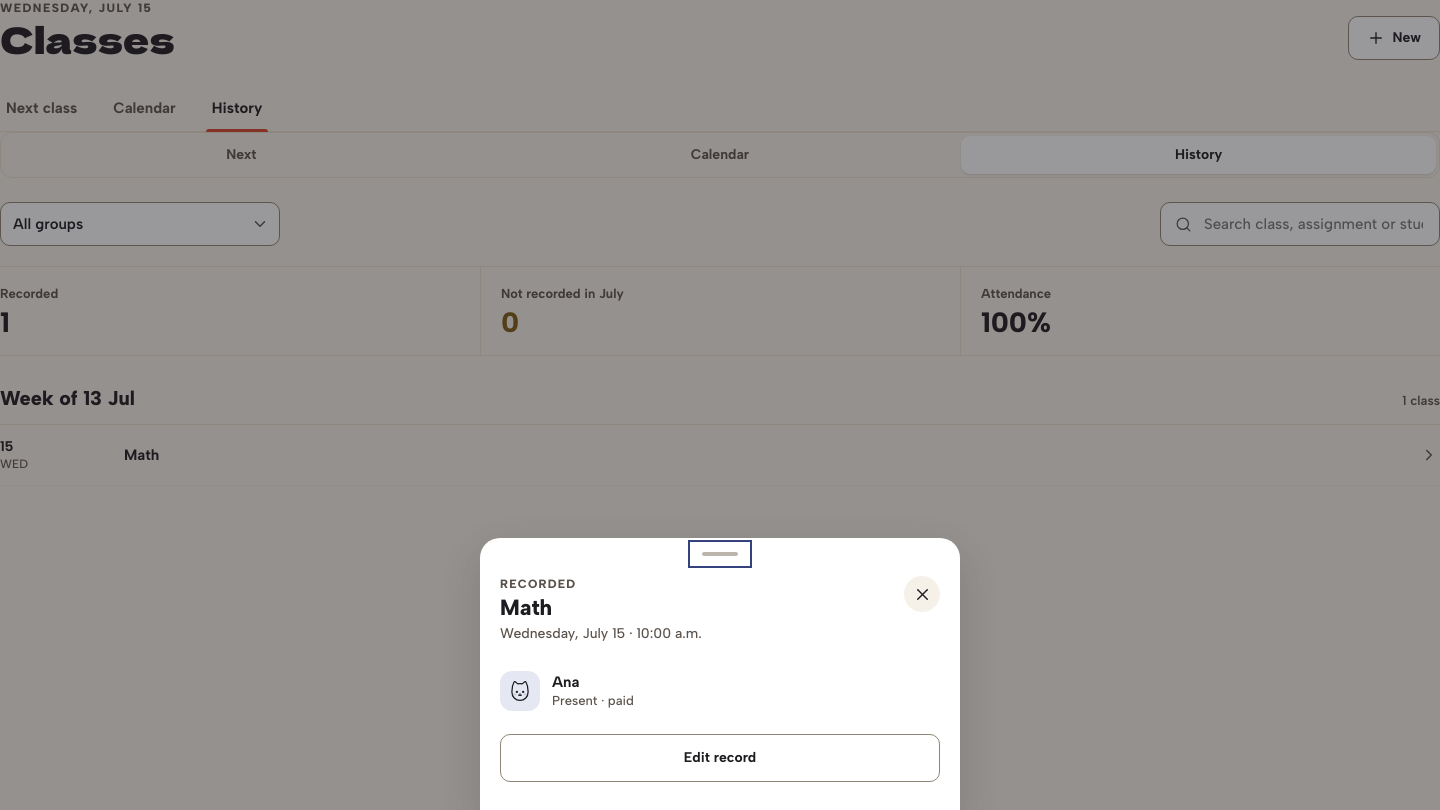
Scenario: a class opened from another screen on a phone › opens its sheet, and «Edit record» reaches the roster after the sheet's Back lands
The width and height of the screenshot is (1440, 810).
Click the button "Edit record". click: {"x": 720, "y": 758}
box: [500,734,940,782]
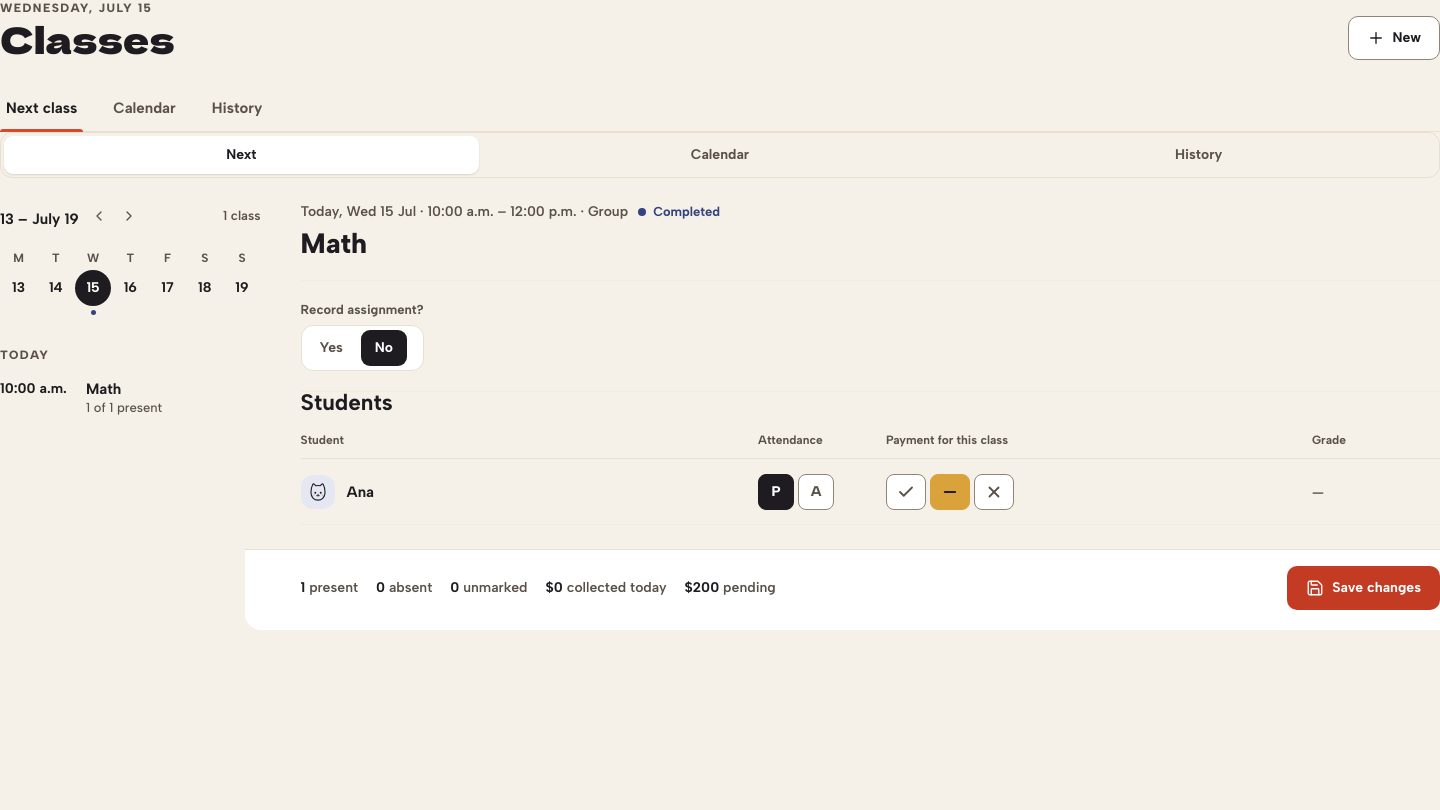
expect the element named "Attendance for Ana" is shown: met, box [758,474,834,510]
expect the dialog is gone: met
